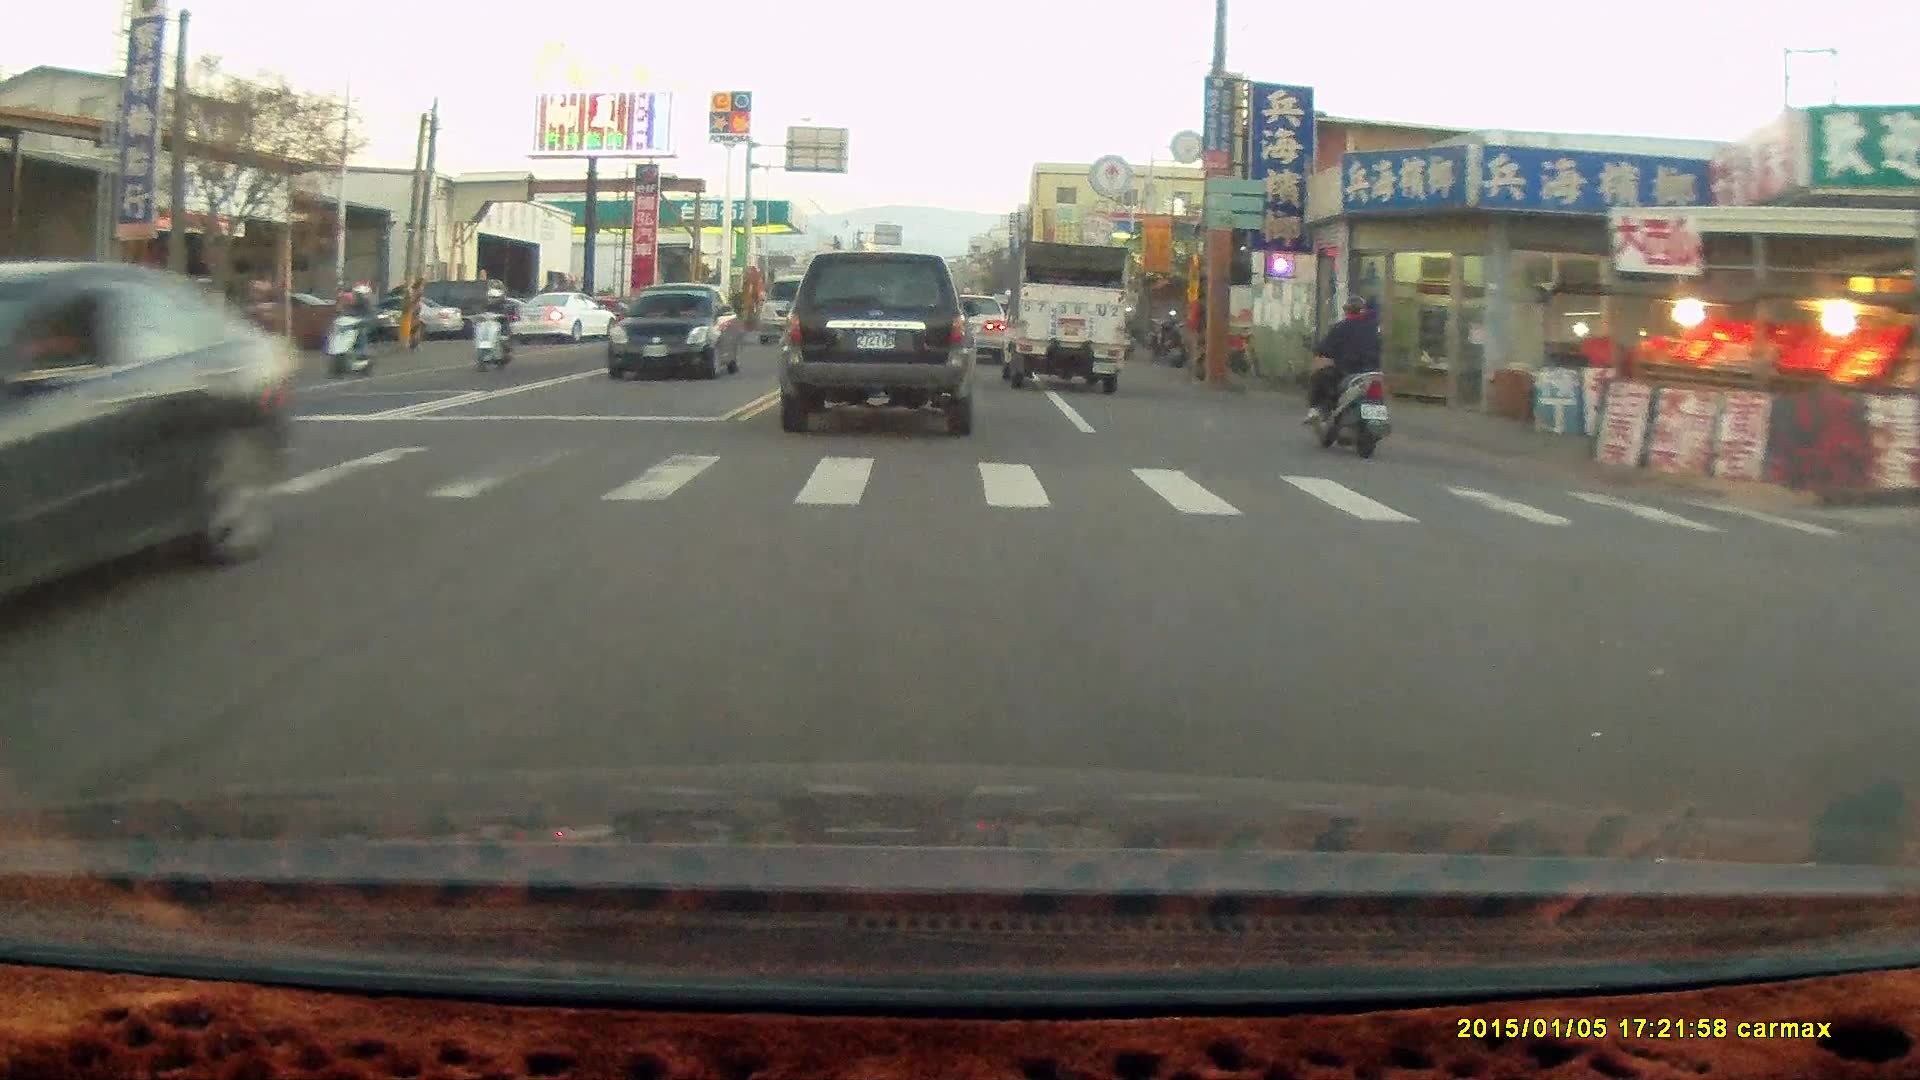rider: (1299, 291, 1391, 456), (317, 282, 385, 381), (473, 283, 520, 368)
vehicle: (1, 263, 293, 645), (773, 250, 984, 436), (996, 240, 1128, 394), (612, 282, 746, 381), (755, 273, 843, 345), (519, 292, 619, 349), (935, 292, 1009, 366)
